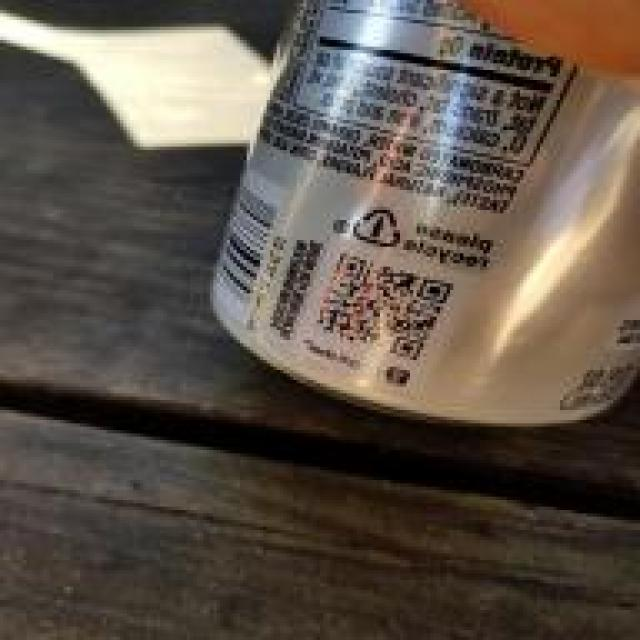QR_CODE: (300, 244, 463, 368)
